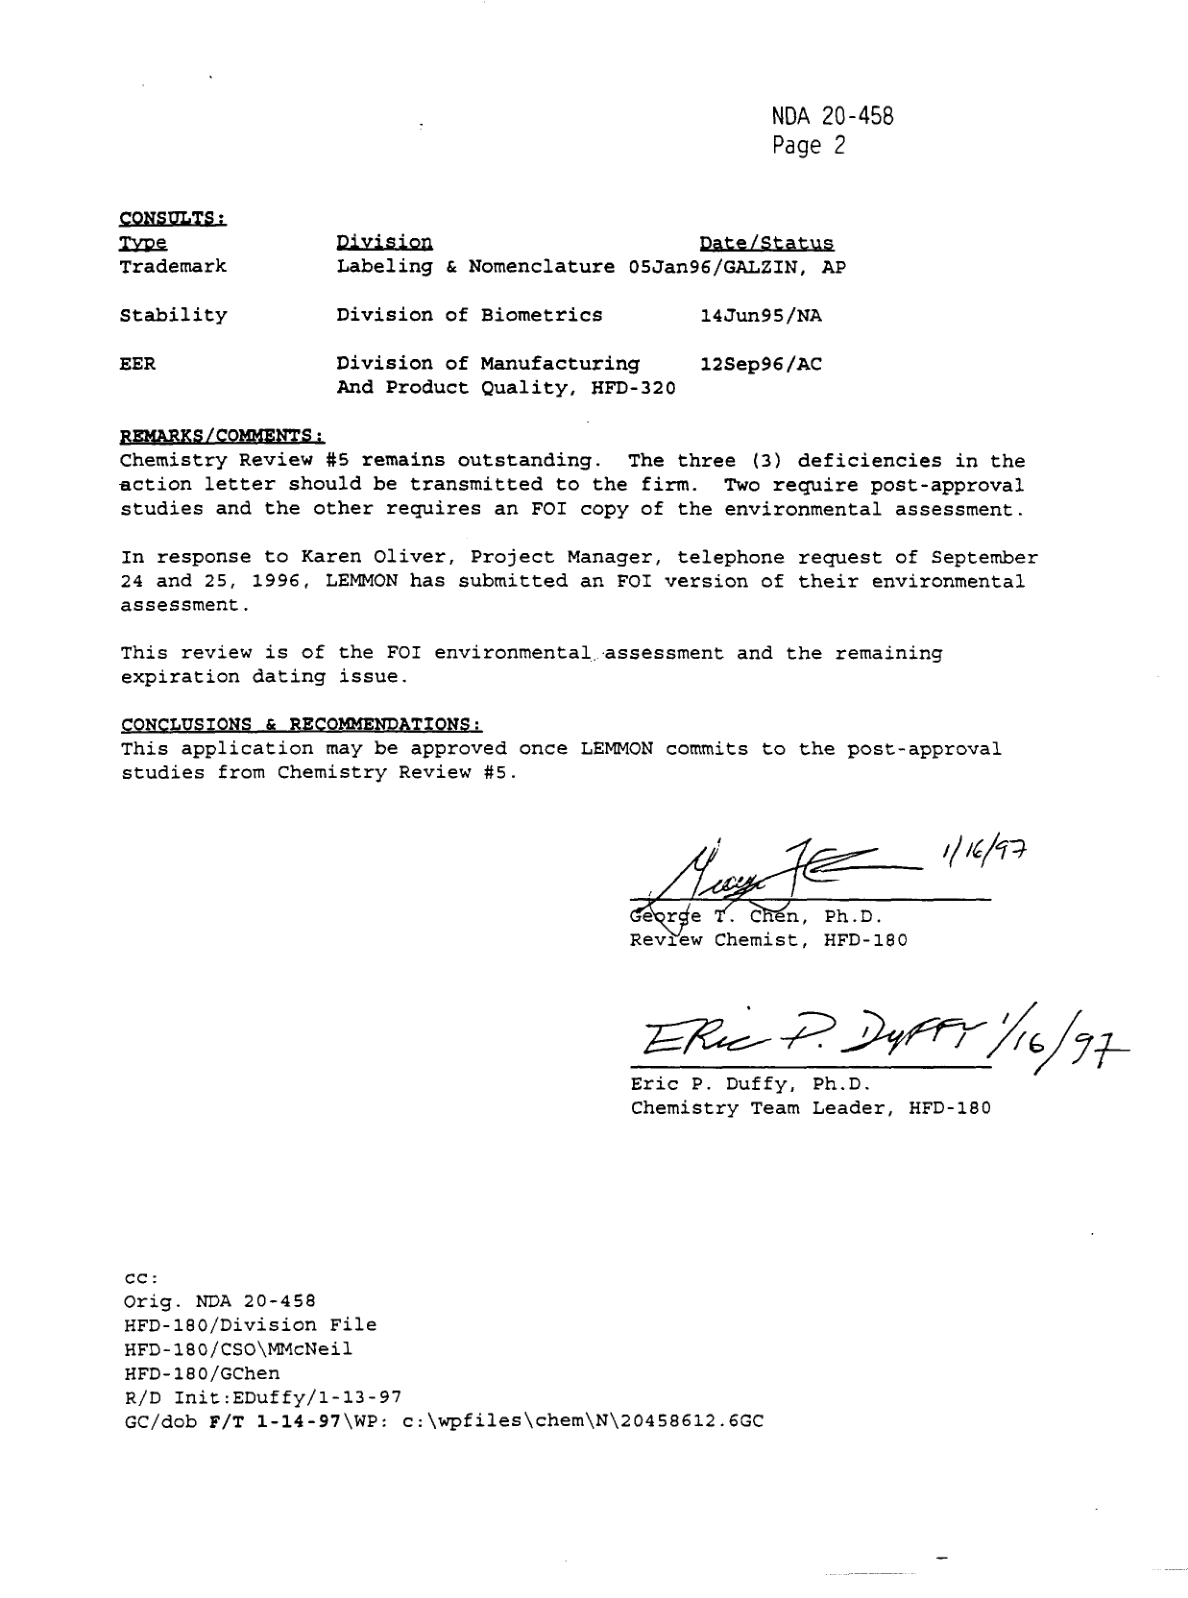nolines: (114, 205, 850, 402)
